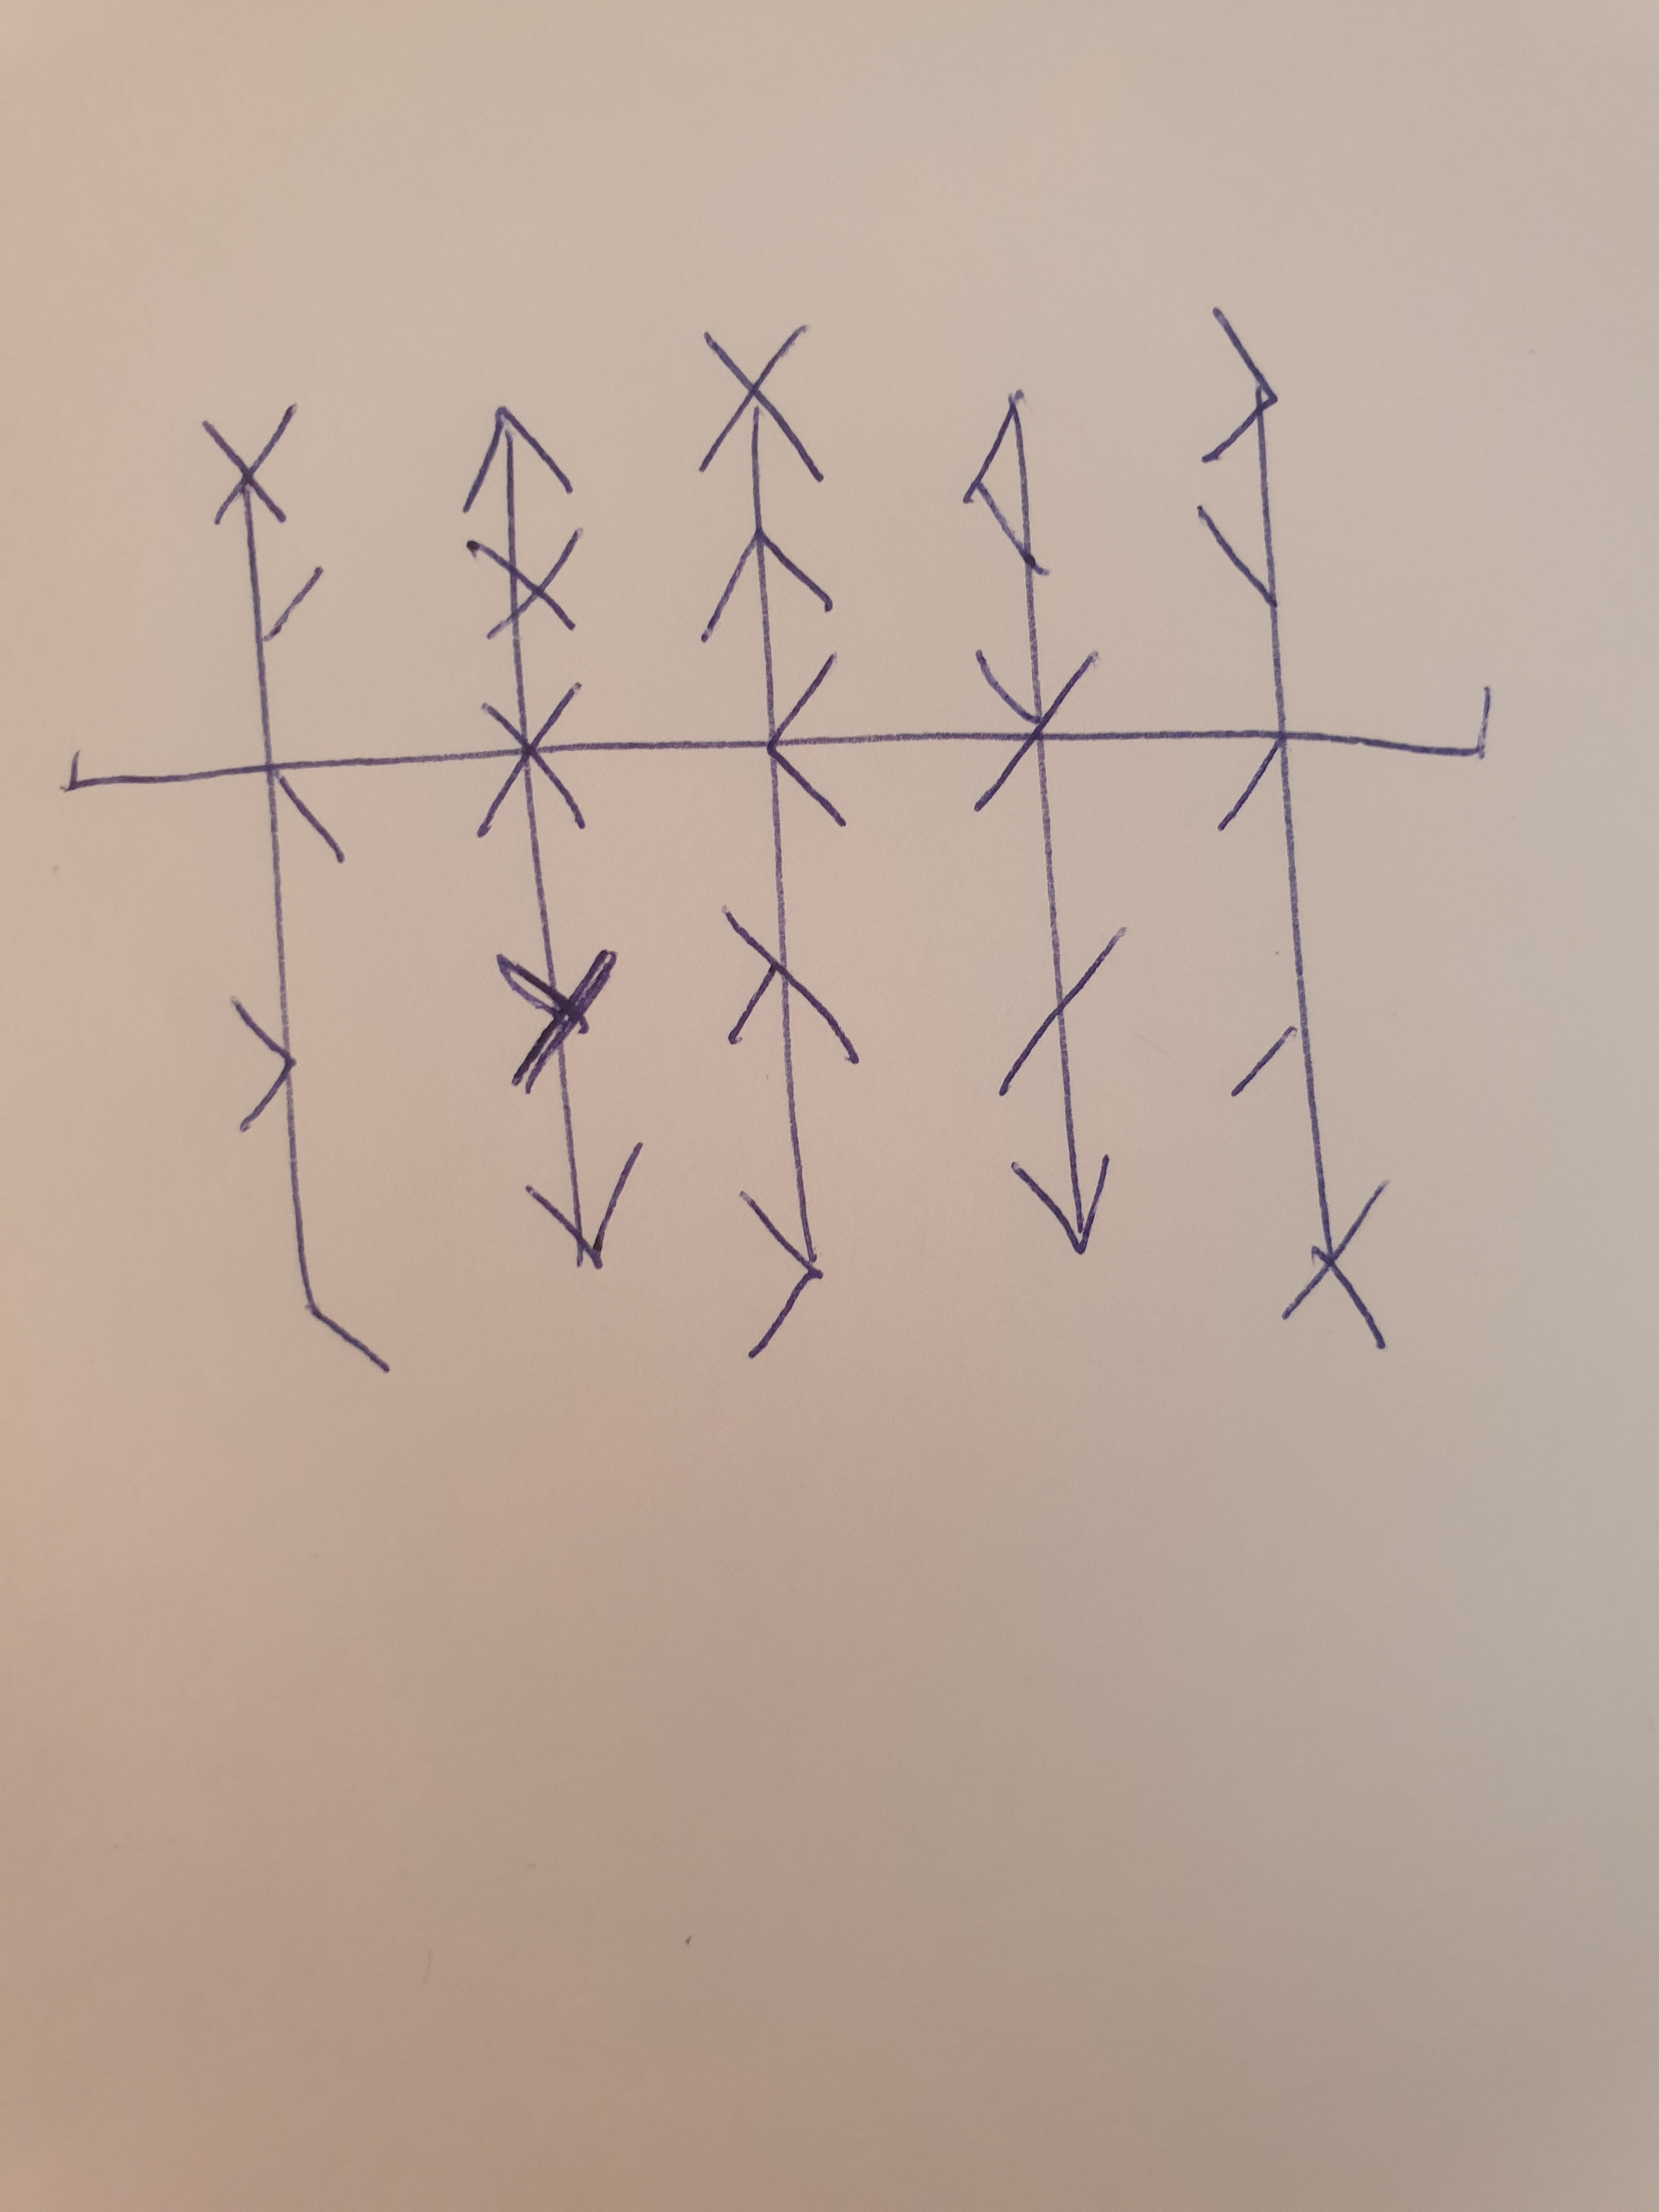Bar: (1199, 307, 1391, 1348), (199, 401, 390, 1374), (697, 324, 861, 1359), (462, 404, 645, 1270), (962, 392, 1129, 1259)
Barcode: (63, 307, 1492, 1376)
End: (1291, 688, 1490, 761)
Start: (63, 752, 265, 792)
